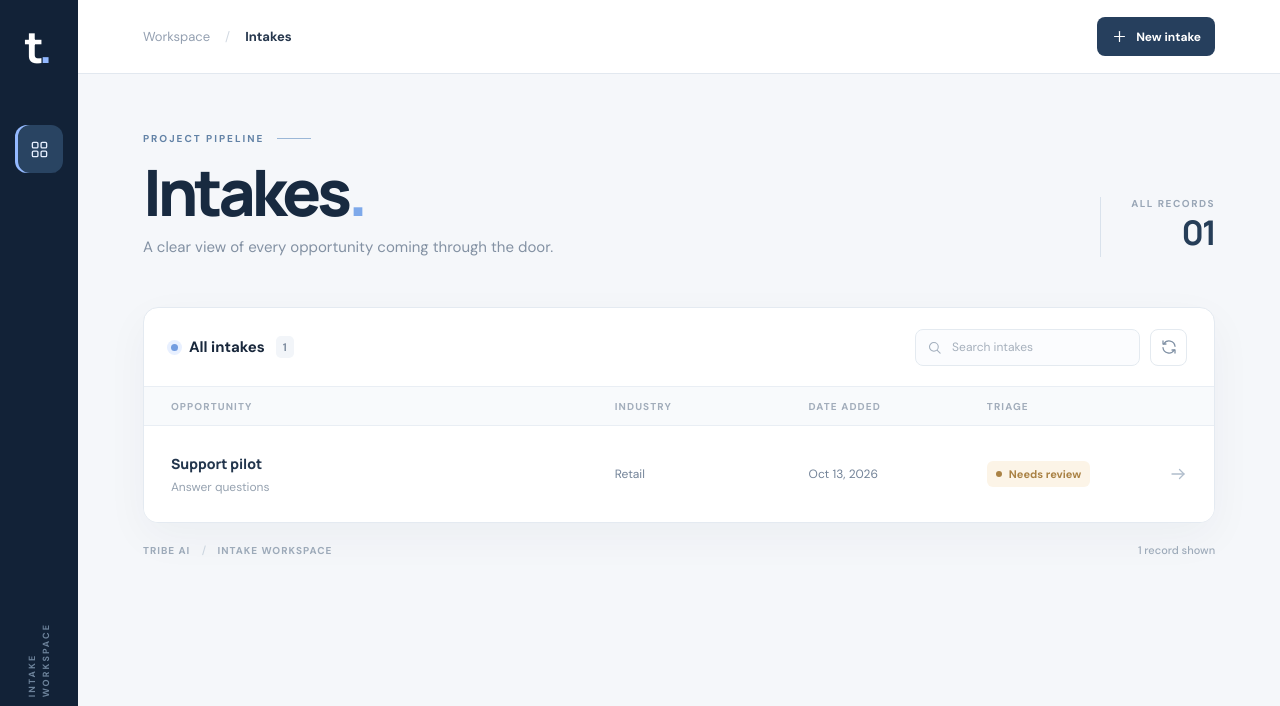
Scenario: confirms deletion and removes the intake from the list
The width and height of the screenshot is (1280, 706).
Click the button with aria-label "View Support pilot" at point(217, 463), box top-left (144, 426), bottom-right (1214, 522)
(page scrolled)
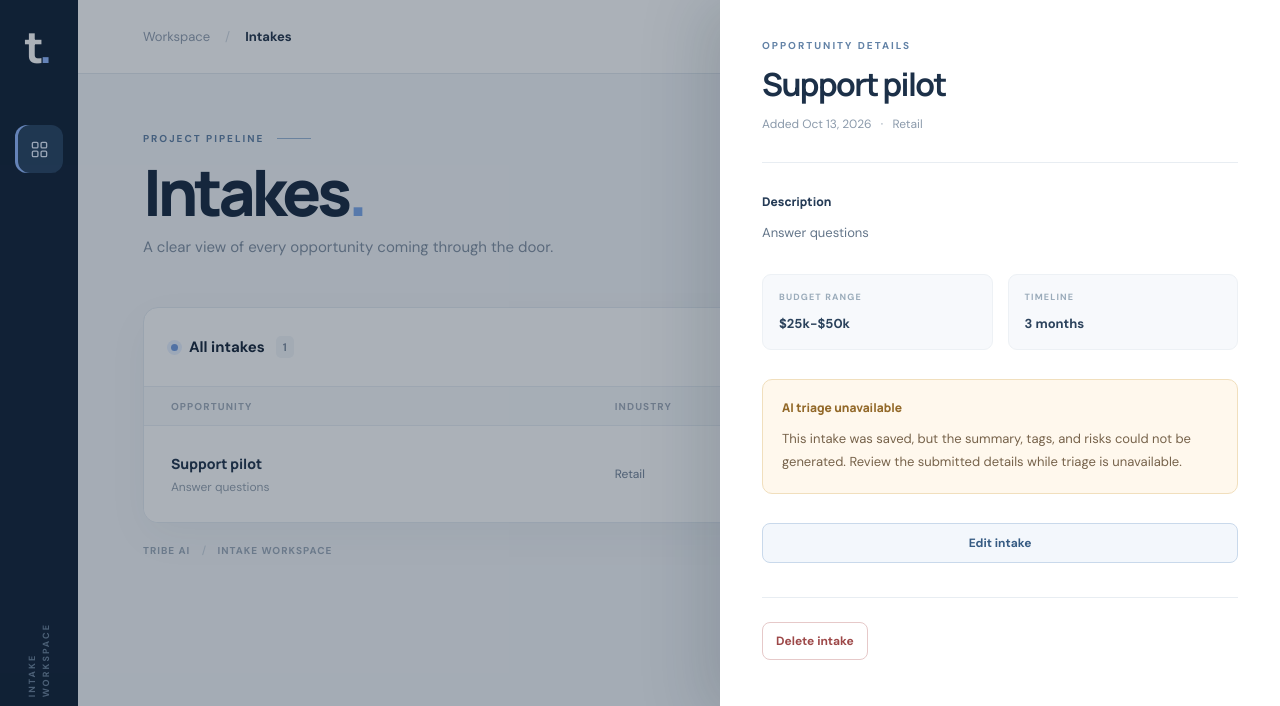
Click the button "Delete intake" at point(815, 641), box top-left (762, 622), bottom-right (868, 660)
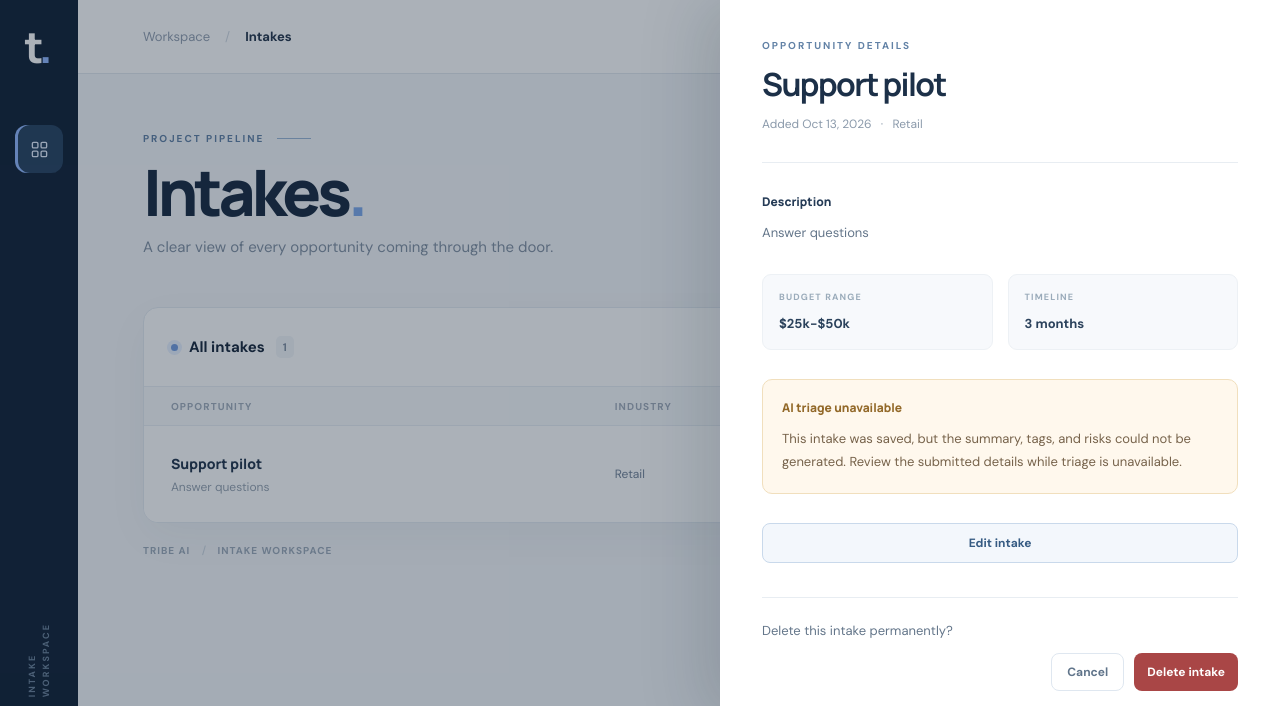
Expected: the text "Delete this intake permanently?" is shown, top-left (762, 622), bottom-right (953, 639)
Click the button "Delete intake" at point(1186, 672), box top-left (1134, 653), bottom-right (1238, 691)
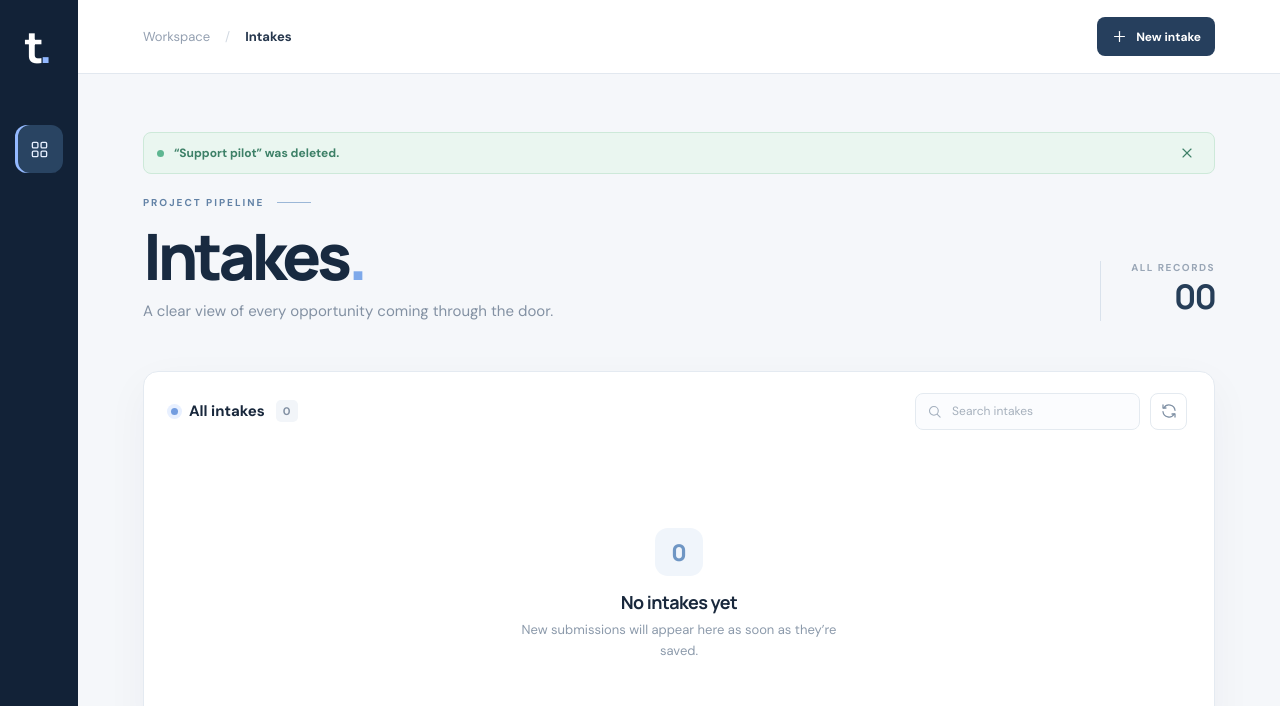
Expected: the text "“Support pilot” was deleted." is shown, top-left (143, 132), bottom-right (1215, 174)
Expected: the heading "No intakes yet" is shown, top-left (621, 590), bottom-right (737, 614)
